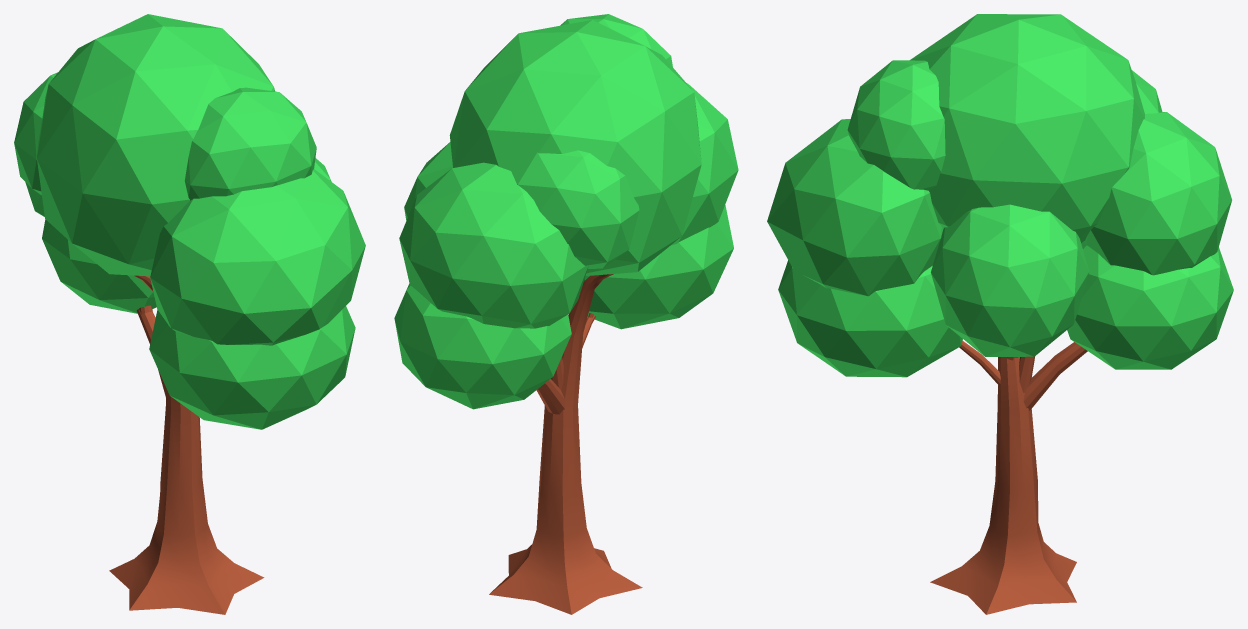
File: AppleTree.fbx
The picture shows the model from 3 angles, left to right: view 1: azimuth 30°, elevation 25°; view 2: azimuth 150°, elevation 25°; view 3: azimuth 270°, elevation 25°; orthographic projection.
Visible parts, largest first — view 1: LEAVES, TRUNK; view 2: LEAVES, TRUNK; view 3: LEAVES, TRUNK.
Boxes of the visible parts, x1=… form: LEAVES: x1=14, y1=14, x2=365, y2=429; TRUNK: x1=109, y1=275, x2=264, y2=614; LEAVES: x1=394, y1=14, x2=738, y2=409; TRUNK: x1=489, y1=274, x2=642, y2=614; LEAVES: x1=767, y1=14, x2=1233, y2=377; TRUNK: x1=930, y1=340, x2=1087, y2=614.
Bounding box in the file's own units: 411 × 810 × 619.
